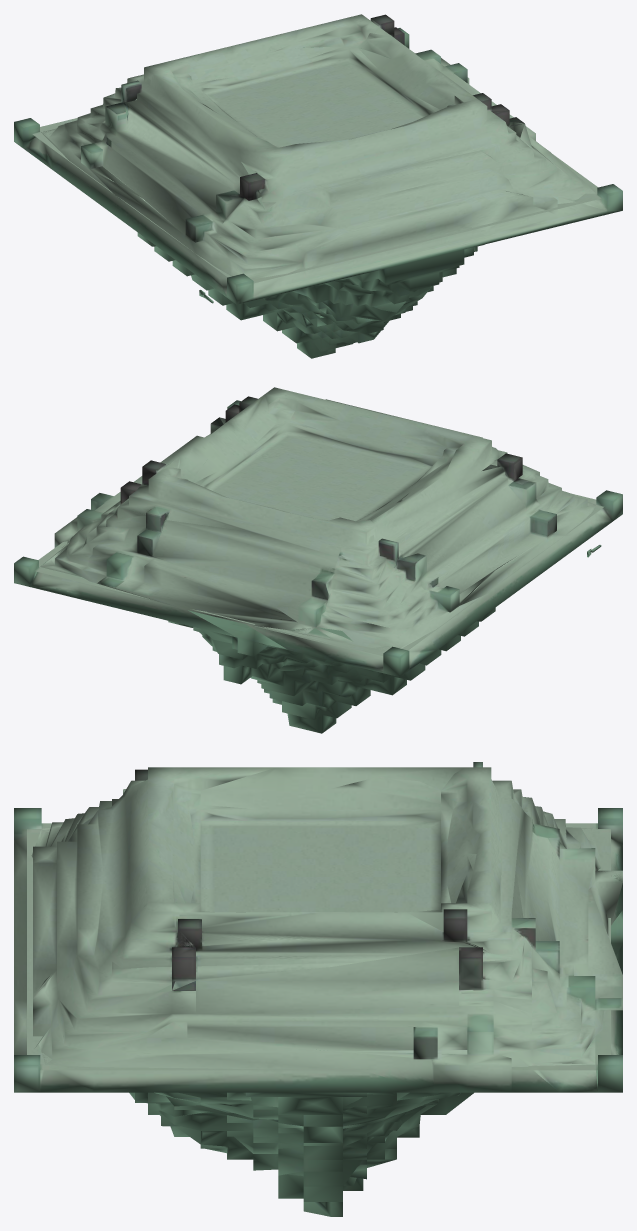
File: 019ec37c-c522-7e96-877e-ced0b8aacddb.glb
3 renders of one model, top to bottom at view 1: azimuth 30°, elevation 25°; view 2: azimuth 150°, elevation 25°; view 3: azimuth 270°, elevation 25°, orthographic. The views are drawn at different scales.
Parts seen in each view (by area): view 1: tripo_node_aa74fdab-4f29-4dda-9753-0a2ba619d359; view 2: tripo_node_aa74fdab-4f29-4dda-9753-0a2ba619d359; view 3: tripo_node_aa74fdab-4f29-4dda-9753-0a2ba619d359.
Part boxes in pixels (x1,y1,x2,y2): tripo_node_aa74fdab-4f29-4dda-9753-0a2ba619d359: (14, 14, 622, 358); tripo_node_aa74fdab-4f29-4dda-9753-0a2ba619d359: (14, 387, 622, 733); tripo_node_aa74fdab-4f29-4dda-9753-0a2ba619d359: (14, 762, 622, 1216).
Size of the model in its own units: 0.998 by 0.6582 by 0.9941.
Materials: 1 (1 with a texture image).
